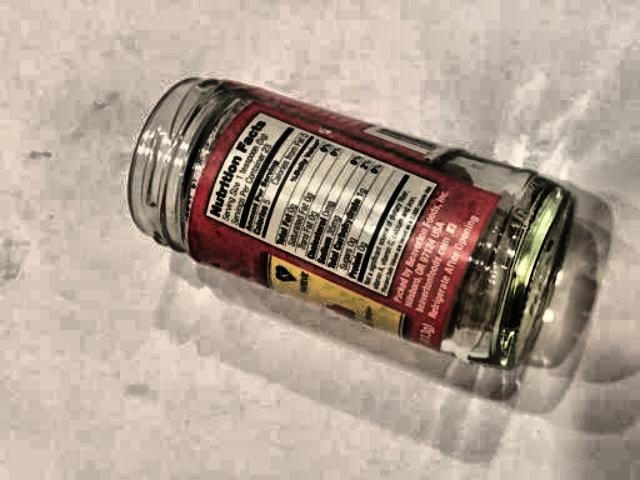Almennt: (87, 61, 609, 387)
